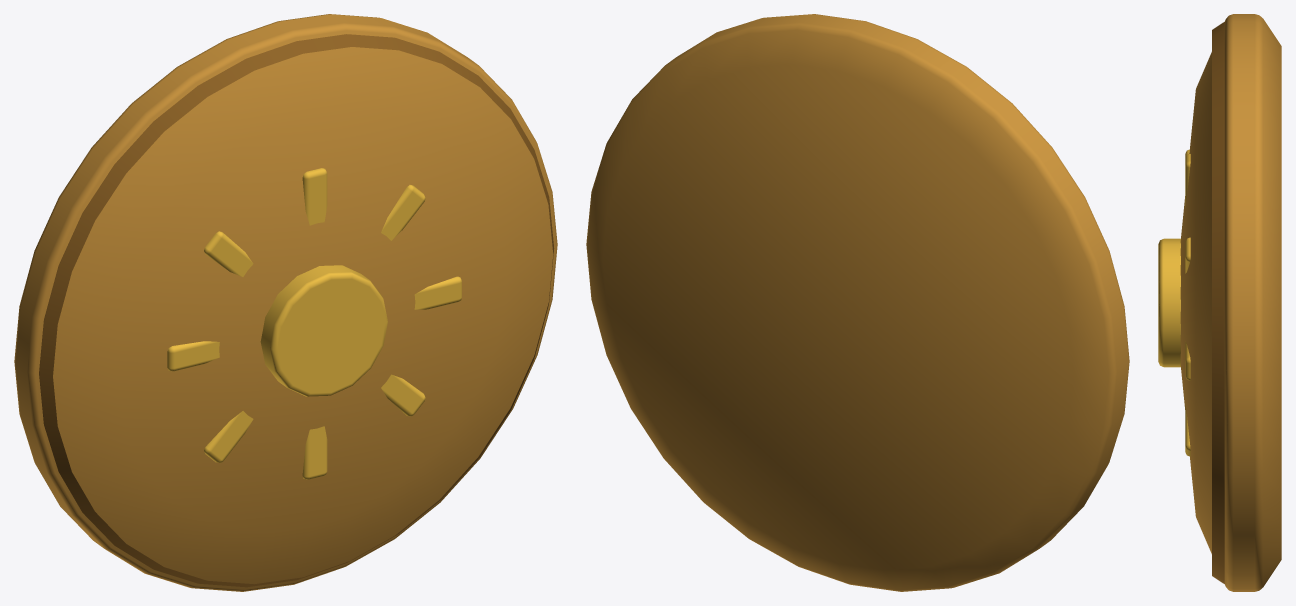
Rendered from escudo_hoplon.glb.
3 renders of one model, left to right at view 1: azimuth 30°, elevation 25°; view 2: azimuth 150°, elevation 25°; view 3: azimuth 270°, elevation 25°, orthographic. The views are drawn at different scales.
Visible parts, largest first — view 1: Escudo.001; view 2: Escudo.001; view 3: Escudo.001.
Part boxes in pixels (x1,y1,x2,y2): Escudo.001: (14,14,557,591); Escudo.001: (586,14,1129,591); Escudo.001: (1158,14,1281,591).
Bounding box in the file's own units: 0.54 × 0.54 × 0.115.
